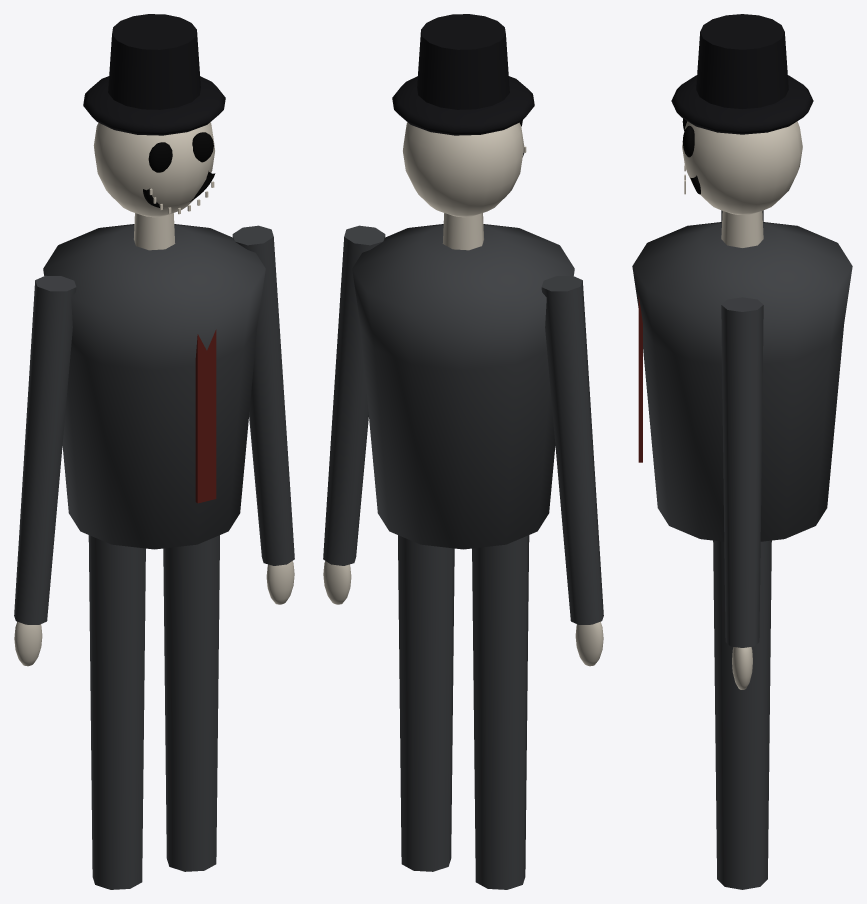
File: entity-smiler.glb
The picture shows the model from 3 angles, left to right: view 1: azimuth 30°, elevation 25°; view 2: azimuth 150°, elevation 25°; view 3: azimuth 270°, elevation 25°; orthographic projection.
Parts seen in each view (by area): view 1: suitGrey, hatCrown, skull, hatBrim, tieRed, skinPale, head; view 2: suitGrey, skull, hatCrown, hatBrim, skinPale; view 3: suitGrey, skull, hatCrown, hatBrim, skinPale, tieRed.
Boxes of the visible parts, box(x1,y1,x2,y2) form: suitGrey: box(14, 224, 294, 889); hatCrown: box(108, 14, 200, 109); skull: box(93, 122, 214, 217); hatBrim: box(83, 76, 225, 135); tieRed: box(195, 329, 216, 503); skinPale: box(14, 213, 294, 666); head: box(148, 132, 214, 214); suitGrey: box(323, 224, 603, 889); skull: box(403, 122, 524, 217); hatCrown: box(417, 14, 509, 109); hatBrim: box(392, 76, 534, 135); skinPale: box(323, 213, 603, 666); suitGrey: box(632, 210, 852, 889); skull: box(682, 121, 802, 214); hatCrown: box(696, 14, 788, 108); hatBrim: box(671, 75, 813, 134); skinPale: box(721, 211, 763, 689); tieRed: box(638, 295, 642, 462).
Size of the model in its own units: 0.75 by 2.16 by 0.52.
